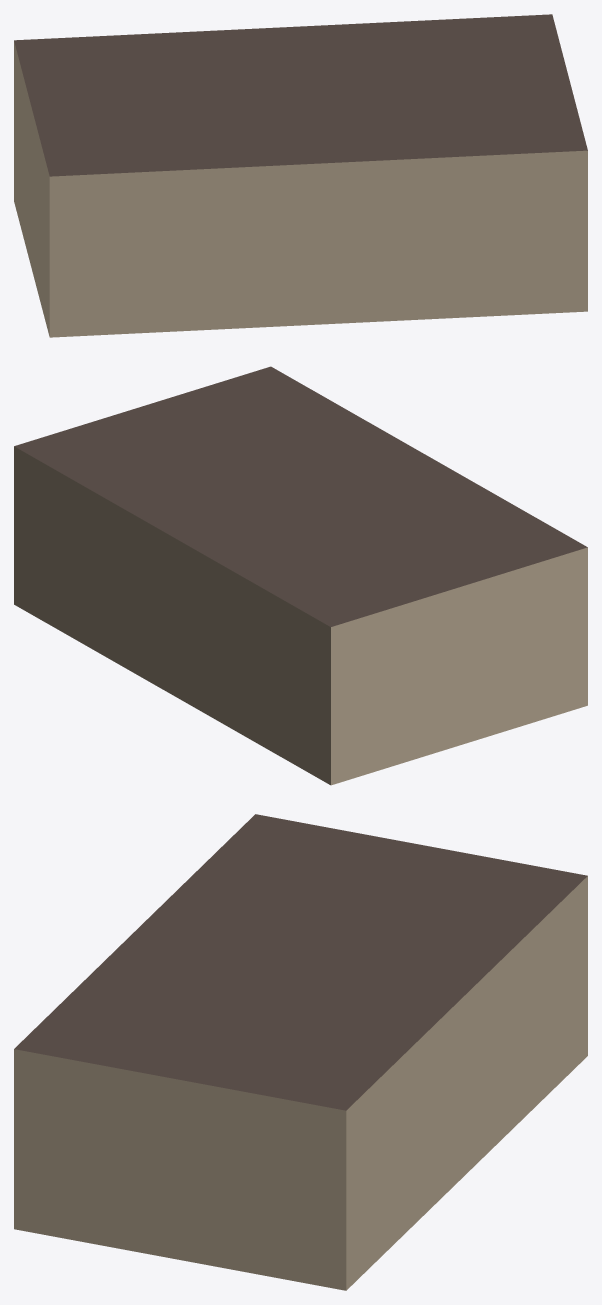
The picture shows the model from 3 angles, top to bottom: view 1: azimuth 30°, elevation 25°; view 2: azimuth 150°, elevation 25°; view 3: azimuth 270°, elevation 25°; orthographic projection. The views are drawn at different scales.
Parts seen in each view (by area): view 1: HP-w859488840; view 2: HP-w859488840; view 3: HP-w859488840.
Part boxes in pixels (x1=…): HP-w859488840: x1=14, y1=14, x2=587, y2=337; HP-w859488840: x1=14, y1=366, x2=587, y2=785; HP-w859488840: x1=14, y1=814, x2=587, y2=1290.
Size of the model in its own units: 31.78 by 9 by 25.99.
